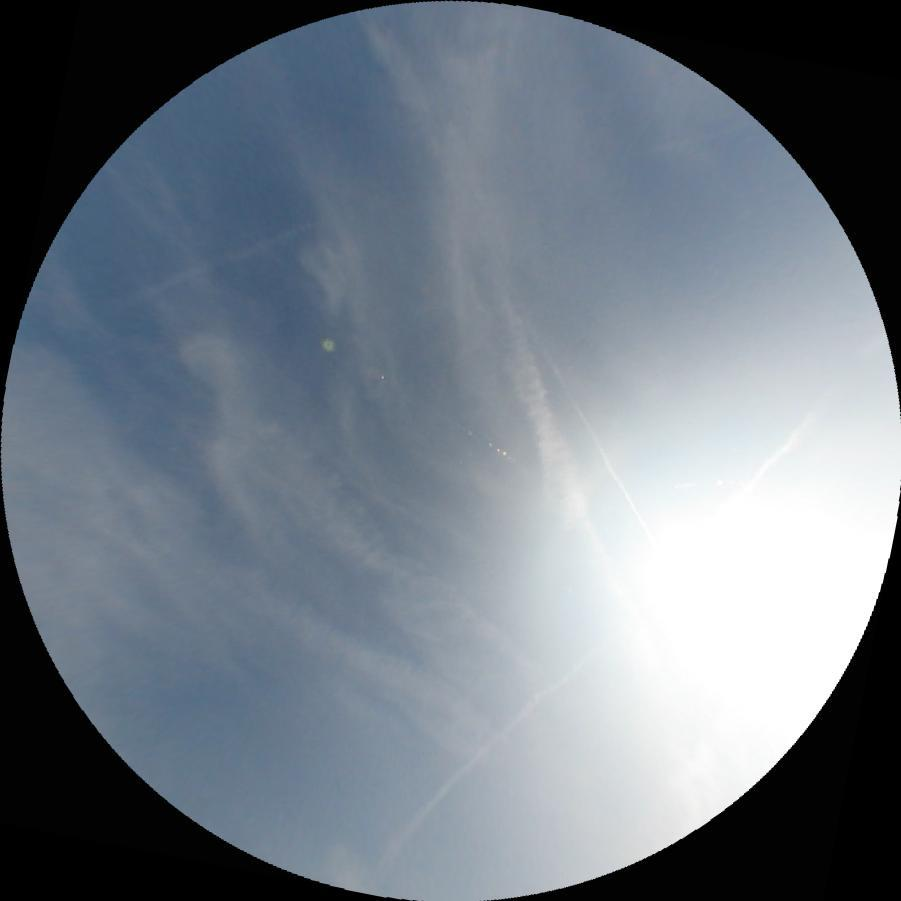contrail old: (357, 371, 858, 889), (540, 349, 654, 544), (127, 219, 314, 301)
contrail veryold: (124, 320, 553, 759), (144, 528, 509, 796), (469, 279, 615, 602)
contrail young: (408, 627, 444, 643)
sun: (589, 446, 901, 781)
